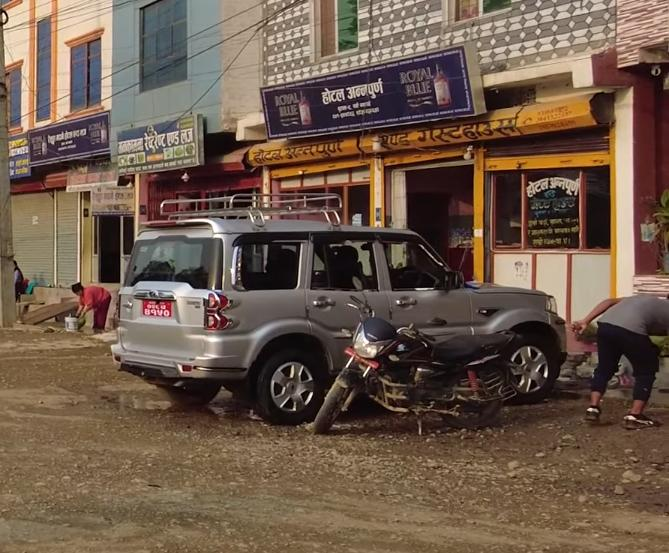SUV: (117, 182, 574, 427)
bike: (310, 309, 522, 437)
